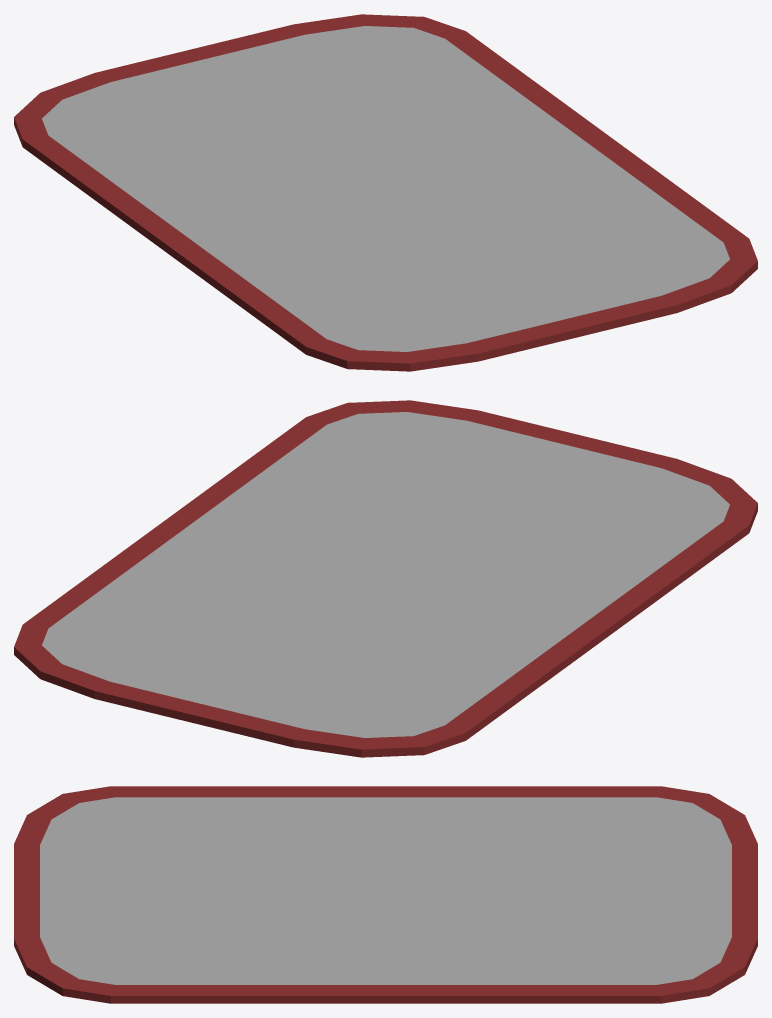
Rendered from Carpet_3.fbx.
3 views of the same model, one above another, from view 1: azimuth 30°, elevation 25°; view 2: azimuth 150°, elevation 25°; view 3: azimuth 270°, elevation 25° (orthographic). The views are drawn at different scales.
Parts seen in each view (by area): view 1: Carpet_3; view 2: Carpet_3; view 3: Carpet_3.
Part boxes in pixels (x1=…): Carpet_3: x1=14, y1=14, x2=757, y2=371; Carpet_3: x1=14, y1=400, x2=757, y2=757; Carpet_3: x1=14, y1=786, x2=757, y2=1003.
Size of the model in its own units: 0.8248 by 0.0143 by 1.24.
